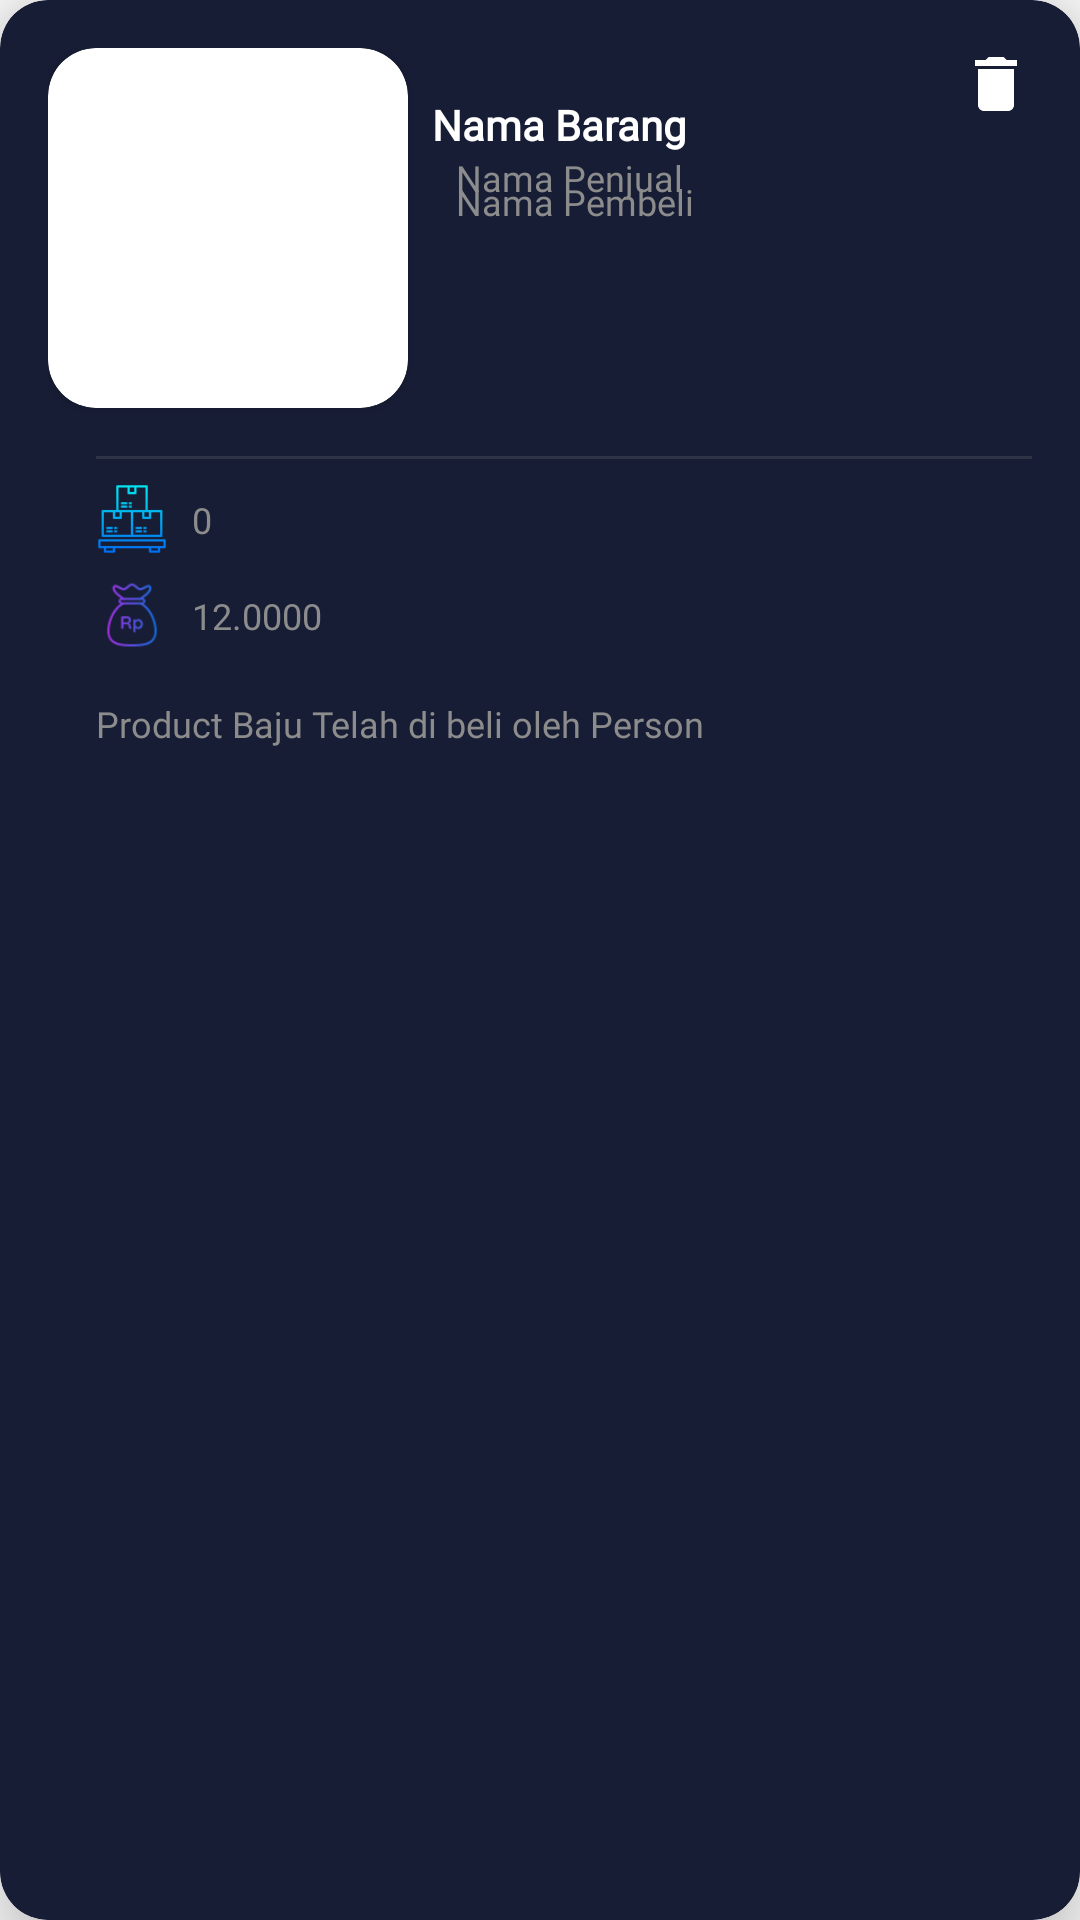

Locate icon controls on the screen. Image size 1080×1920, boxes as (x1, y1, x2, y2).
delete: (975, 57, 1017, 111)
piece: (98, 485, 166, 553)
price: (107, 583, 157, 647)
